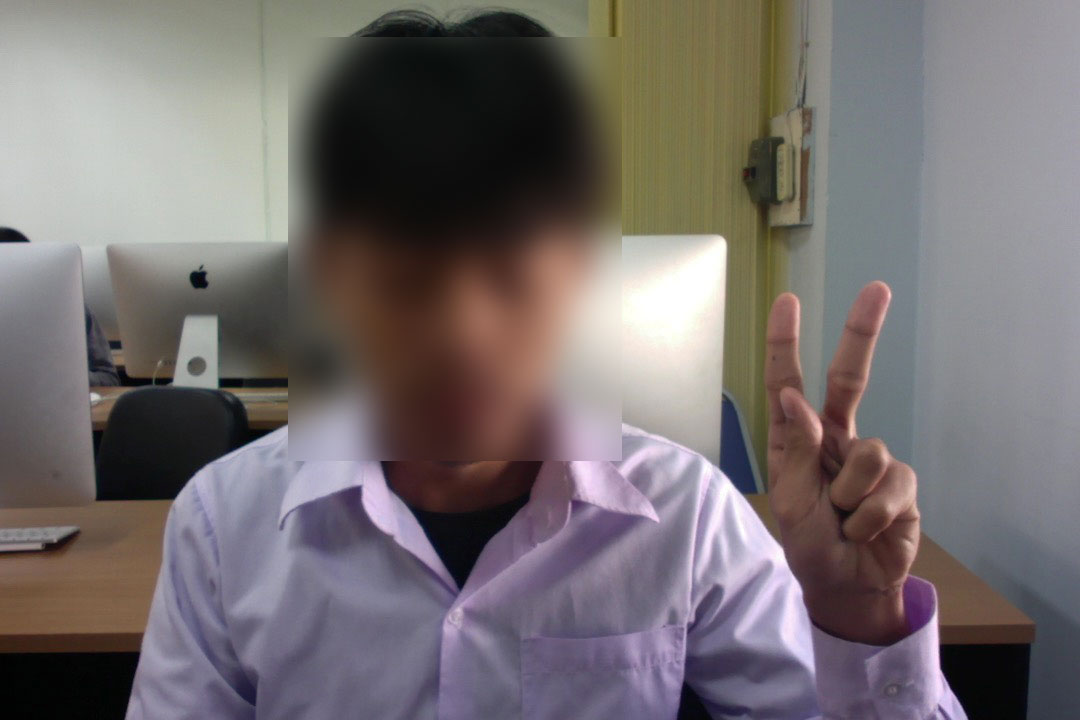ko: (750, 261, 943, 620)
